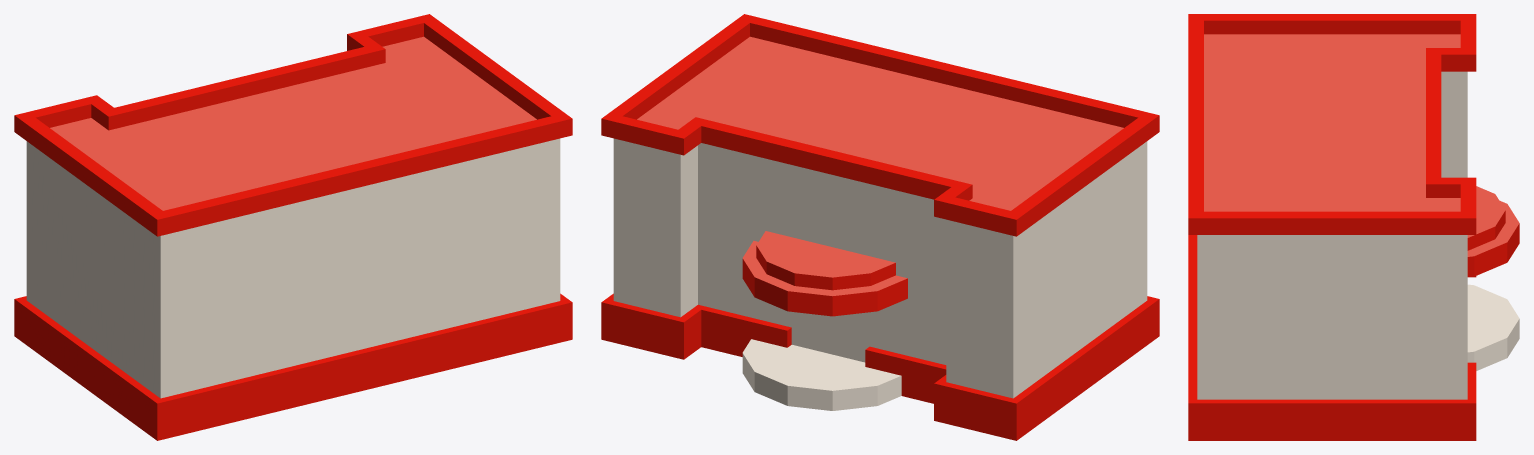
Rendered from Map-Bank-R.fbx.
The picture shows the model from 3 angles, left to right: view 1: azimuth 30°, elevation 25°; view 2: azimuth 150°, elevation 25°; view 3: azimuth 270°, elevation 25°; orthographic projection.
Visible parts, largest first — view 1: Map-Bank-R; view 2: Map-Bank-R; view 3: Map-Bank-R.
Boxes of the visible parts, <box> form: Map-Bank-R: <box>14,14,572,440</box>; Map-Bank-R: <box>601,14,1159,440</box>; Map-Bank-R: <box>1188,14,1519,440</box>.
Bounding box in the file's own units: 1.75 × 0.8906 × 1.2.
